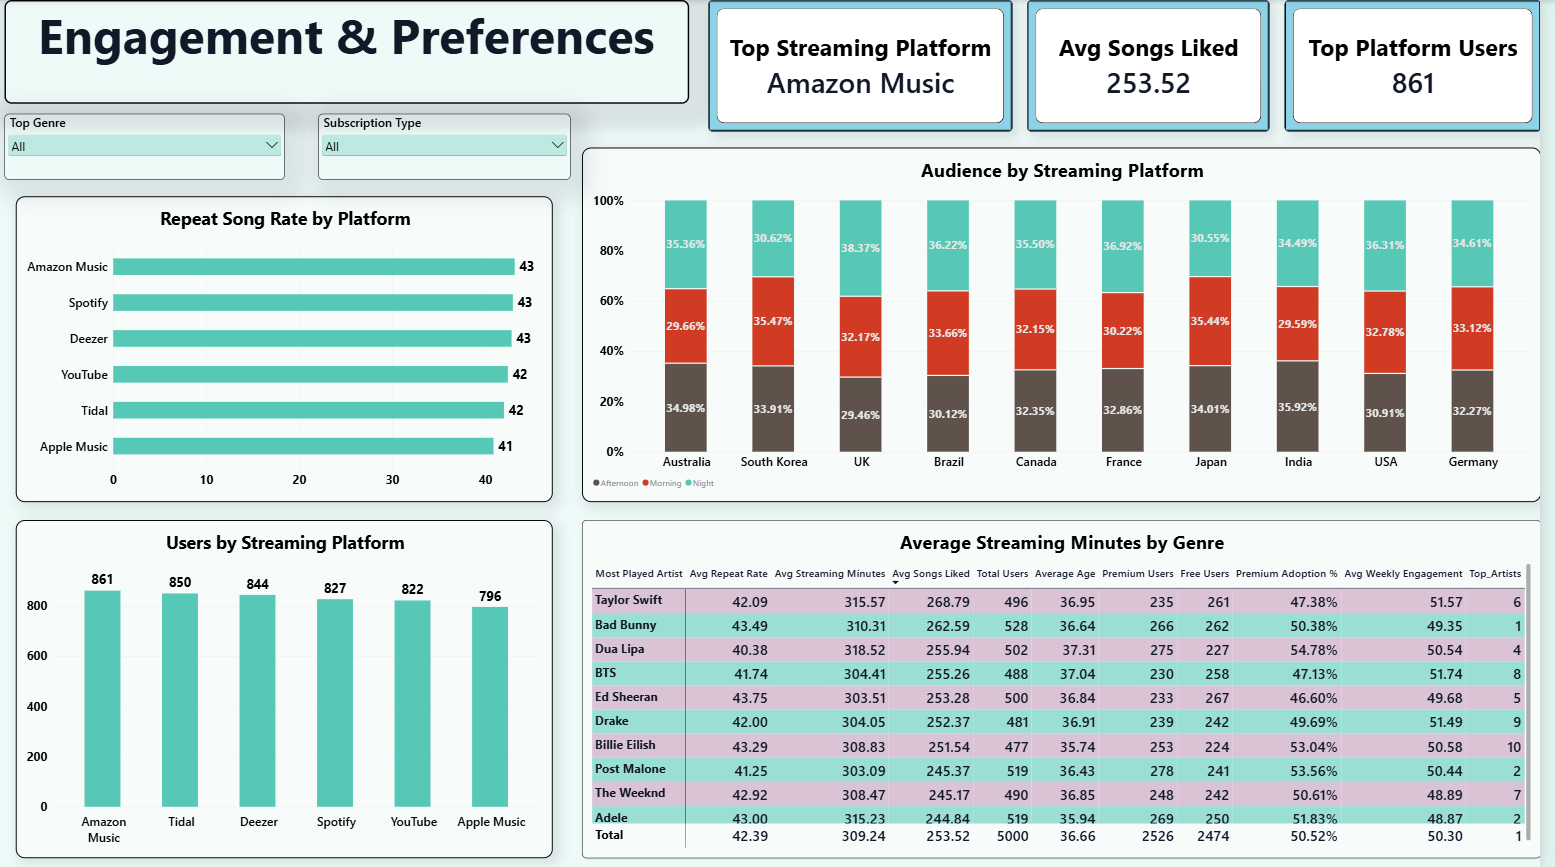

What the dashboard file says about the page in this screenshot:
{"tool":"powerbi","page":{"name":"Preferences","canvas":[2560,1440],"ordinal":3},"visuals":[{"type":"textbox","box":[11.6,0,1134.9,172.1],"z":0},{"type":"clusteredBarChart","title":" Repeat Song Rate by Platform","fields":{"Category":["cleaned_music_data (1).Streaming Platform"],"Y":["Table.Avg Repeat Rate"]},"box":[30.2,325.6,890.7,507],"z":1000},{"type":"clusteredColumnChart","title":" Users by Streaming Platform","fields":{"Category":["cleaned_music_data (1).Streaming Platform"],"Y":["Table.Total Users"]},"box":[30.2,862.8,890.7,560.5],"z":2000},{"type":"hundredPercentStackedColumnChart","title":"  Audience by Streaming Platform","fields":{"Category":["cleaned_music_data (1).Country"],"Y":["Table.Total Users"],"Series":["cleaned_music_data (1).Listening Time (Morning/Afternoon/Night)"]},"box":[969.8,244.2,1590.7,588.4],"z":3000},{"type":"pivotTable","title":" Average Streaming Minutes by Genre","fields":{"Rows":["cleaned_music_data (1).Most Played Artist"],"Values":["Table.Avg Repeat Rate","Table.Avg Streaming Minutes","Table.Avg Songs Liked","Table.Total Users","Table.Average Age","Table.Premium Users","Table.Free Users","Table.Premium Adoption %","Table.Avg Weekly Engagement","Table.Top_Artists"]},"box":[969.8,862.8,1590.7,560.5],"z":4000},{"type":"cardVisual","fields":{"Data":["Table.Avg Songs Liked"]},"box":[1707,0,402.3,218.6],"z":4001},{"type":"cardVisual","fields":{"Data":["Table.Top Streaming Platform"]},"box":[1179.1,0,504.7,218.6],"z":4002},{"type":"cardVisual","fields":{"Data":["Table.Top Platform Users"]},"box":[2134.9,0,425.6,218.6],"z":4003},{"type":"slicer","fields":{"Values":["cleaned_music_data (1).Top Genre"]},"box":[11.6,188.4,465.1,109.3],"z":4004},{"type":"slicer","fields":{"Values":["cleaned_music_data (1).Subscription Type"]},"box":[532.6,188.4,418.6,109.3],"z":4005}]}

Visuals, with their boxes in screenshot pixels (x1, y1, x2, y2), scaled from the page's 2560x1440 canvas onto the 1555x867 screenshot:
textbox: detection(7, 0, 696, 104)
" Repeat Song Rate by Platform" clusteredBarChart: detection(18, 196, 559, 501)
" Users by Streaming Platform" clusteredColumnChart: detection(18, 519, 559, 857)
"  Audience by Streaming Platform" hundredPercentStackedColumnChart: detection(589, 147, 1554, 501)
" Average Streaming Minutes by Genre" pivotTable: detection(589, 519, 1554, 857)
cardVisual - Table.Avg Songs Liked: detection(1037, 0, 1281, 132)
cardVisual - Table.Top Streaming Platform: detection(716, 0, 1023, 132)
cardVisual - Table.Top Platform Users: detection(1297, 0, 1554, 132)
slicer - cleaned_music_data (1).Top Genre: detection(7, 113, 290, 179)
slicer - cleaned_music_data (1).Subscription Type: detection(324, 113, 578, 179)
